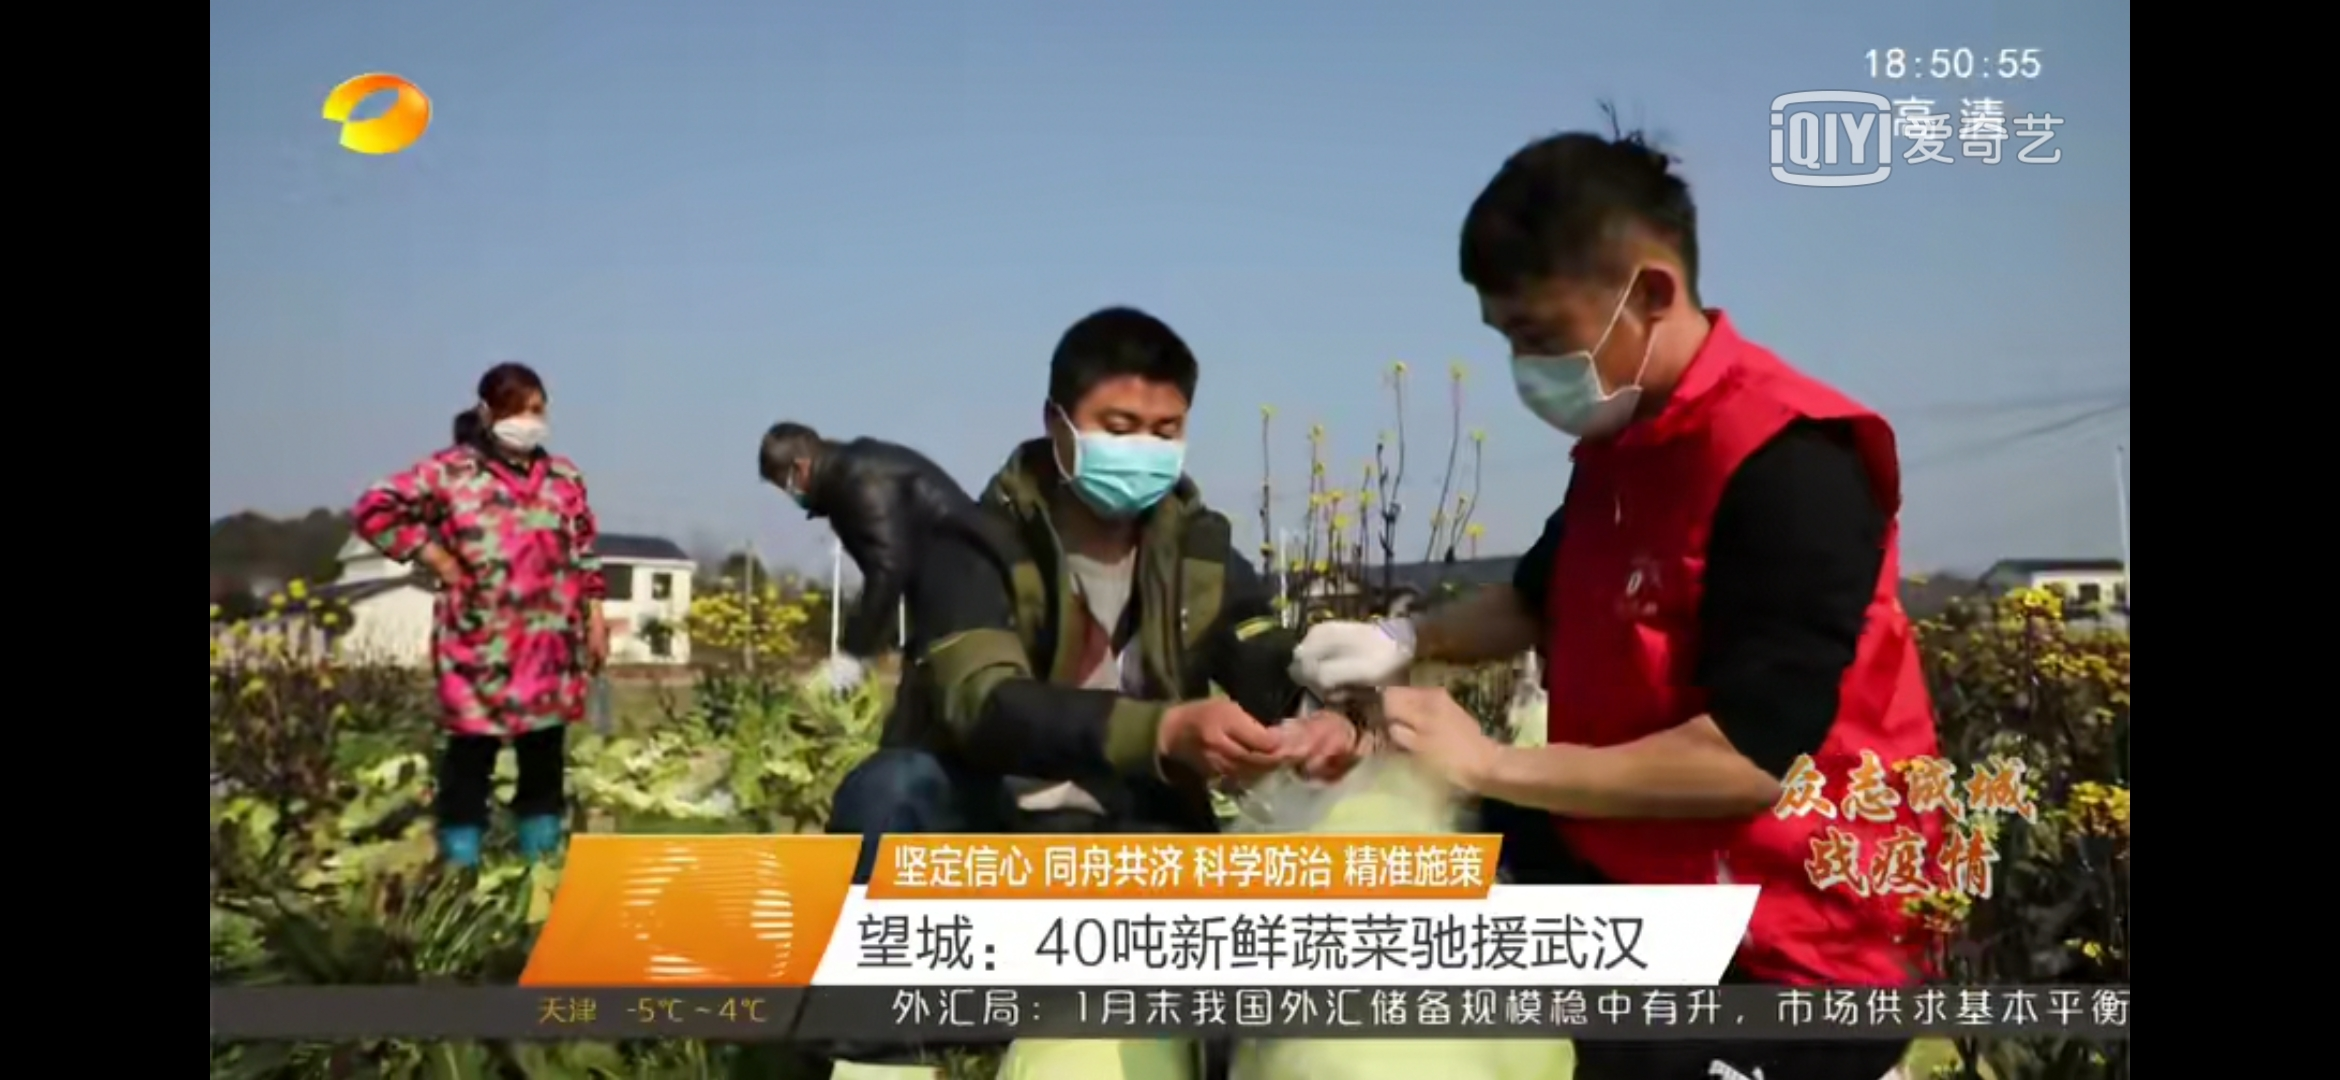correctlyWear: (1479, 249, 1686, 445), (1040, 383, 1192, 524), (482, 395, 552, 453), (763, 452, 816, 509)
